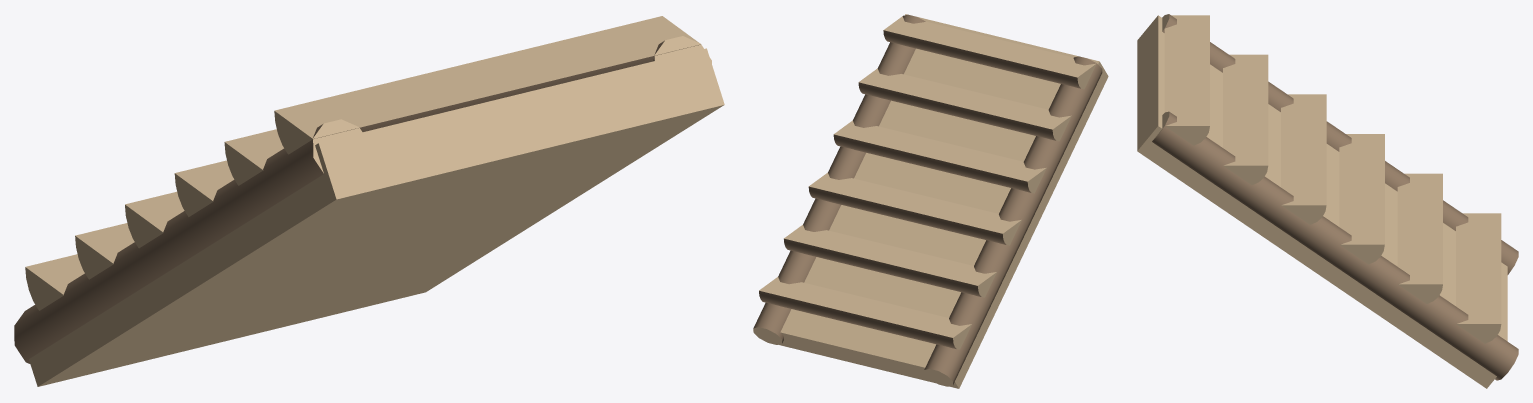
Rendered from log_steps.glb.
3 renders of one model, left to right at view 1: azimuth 30°, elevation 25°; view 2: azimuth 150°, elevation 25°; view 3: azimuth 270°, elevation 25°, orthographic. The views are drawn at different scales.
Parts seen in each view (by area): view 1: Col_Ramp, Stairs; view 2: Stairs, Col_Ramp; view 3: Stairs, Col_Ramp.
Boxes of the visible parts, x1,y1,x2,y2 form: Col_Ramp: (29,48,724,386); Stairs: (14,16,711,363); Stairs: (753,14,1102,386); Col_Ramp: (778,14,1108,388); Stairs: (1152,14,1518,380); Col_Ramp: (1137,15,1507,388).
Bounding box in the file's own units: 1.54 × 1.69 × 2.18.
